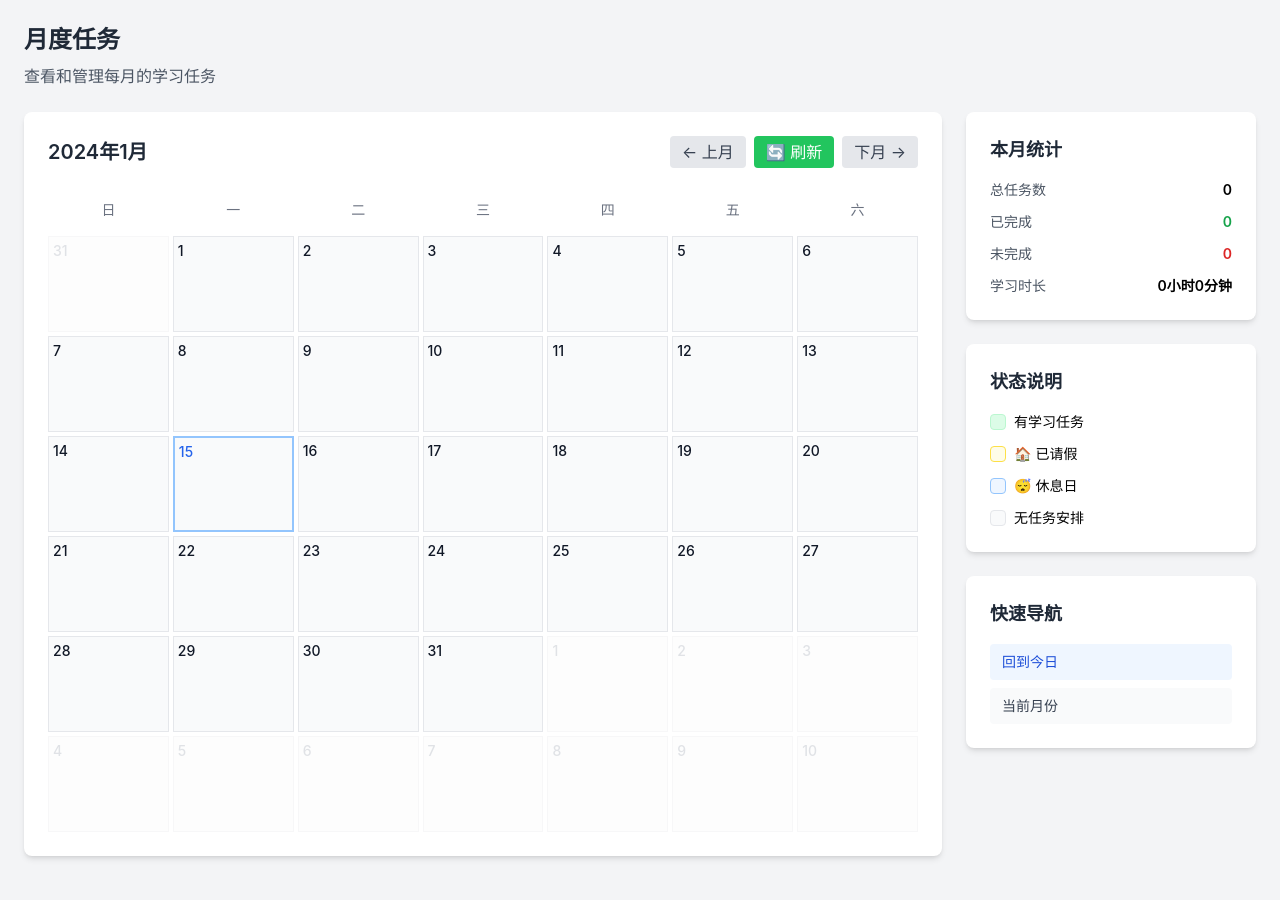
Test: MonthScreen Component › navigates to next month
Expected: the heading "2024年1月" is shown, [48,138,148,166]
Step 1. Click the button "下月 →" → x=880, y=152, box [842,136,918,168]
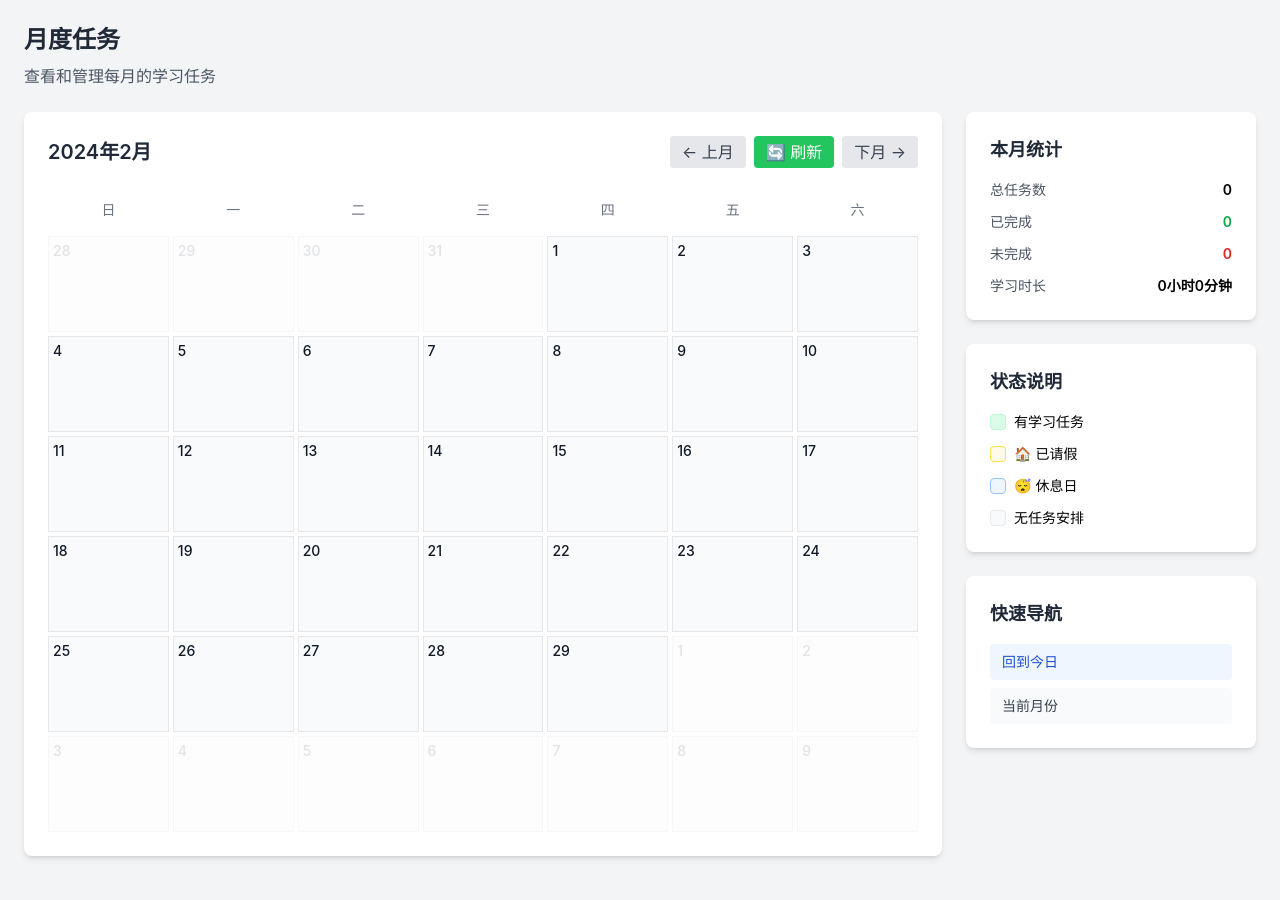
Now the heading "2024年2月" is shown, box [48,138,152,166]
